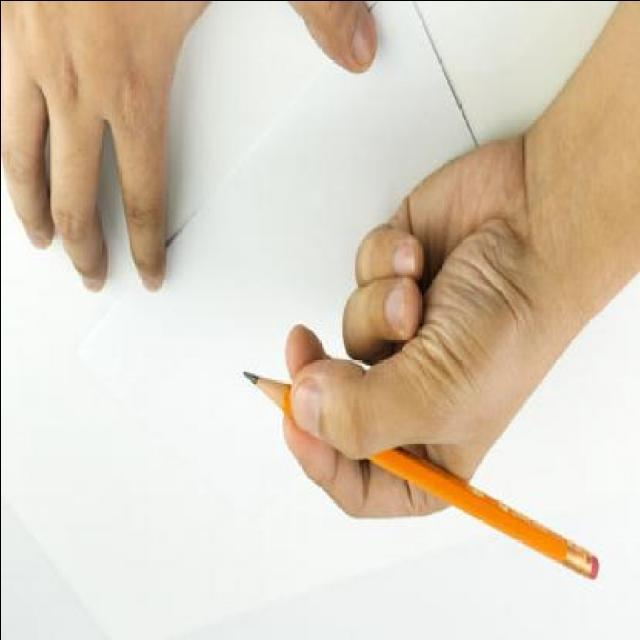Pencil: (239, 361, 293, 421)
